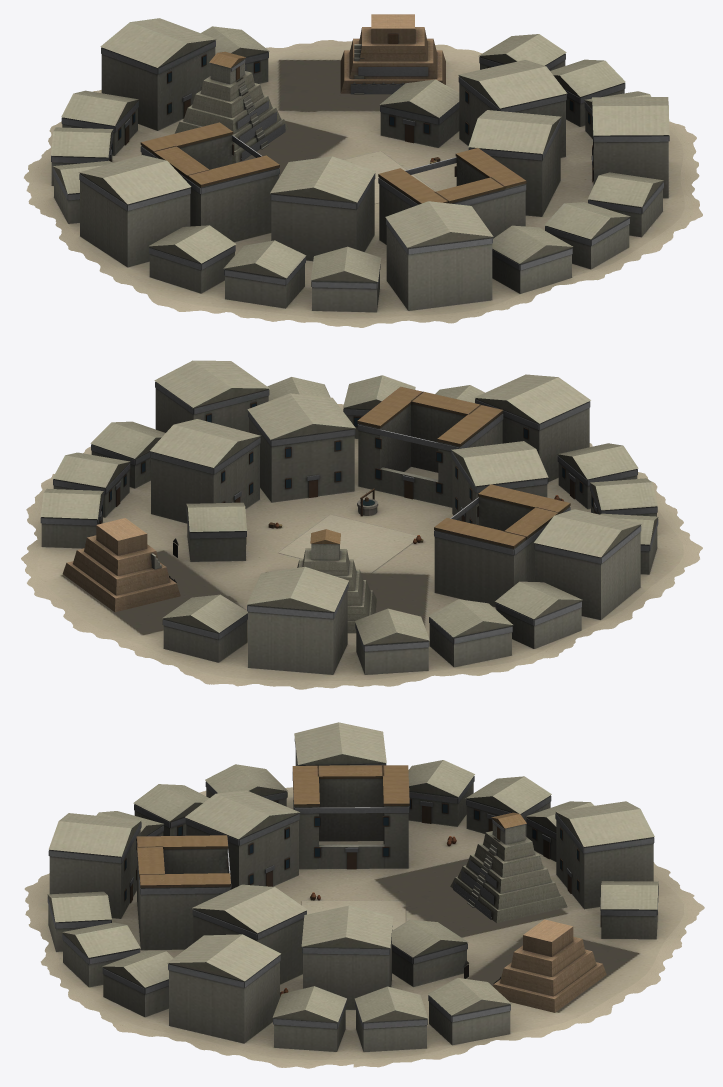
File: classical-town-big-a-americas.glb
3 views of the same model, one above another, from view 1: azimuth 30°, elevation 25°; view 2: azimuth 150°, elevation 25°; view 3: azimuth 270°, elevation 25° (orthographic).
Parts seen in each view (by area): view 1: LOD0; view 2: LOD0; view 3: LOD0.
Boxes of the visible parts, box(x1,y1,x2,y2) form: LOD0: box(24, 14, 702, 327); LOD0: box(21, 360, 702, 689); LOD0: box(24, 722, 704, 1068).
Size of what is drawn, in the model's own units: 7.9 by 1.06 by 8.05.
3 materials, 3 textured.
